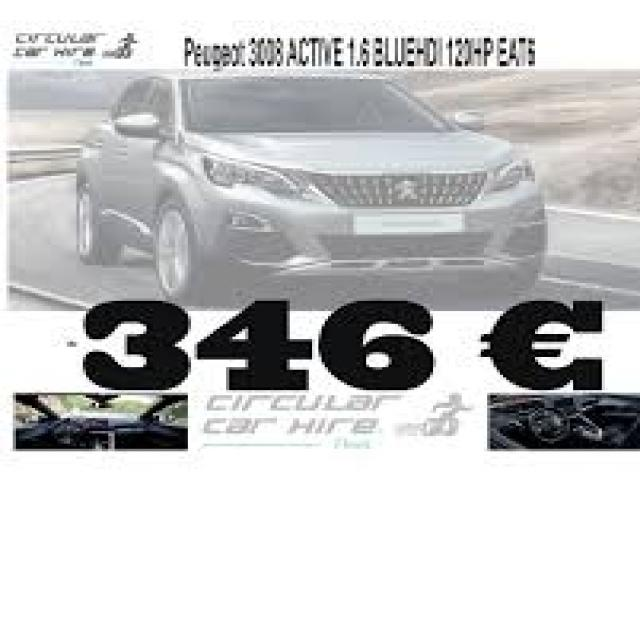Car: (59, 73, 558, 298)
